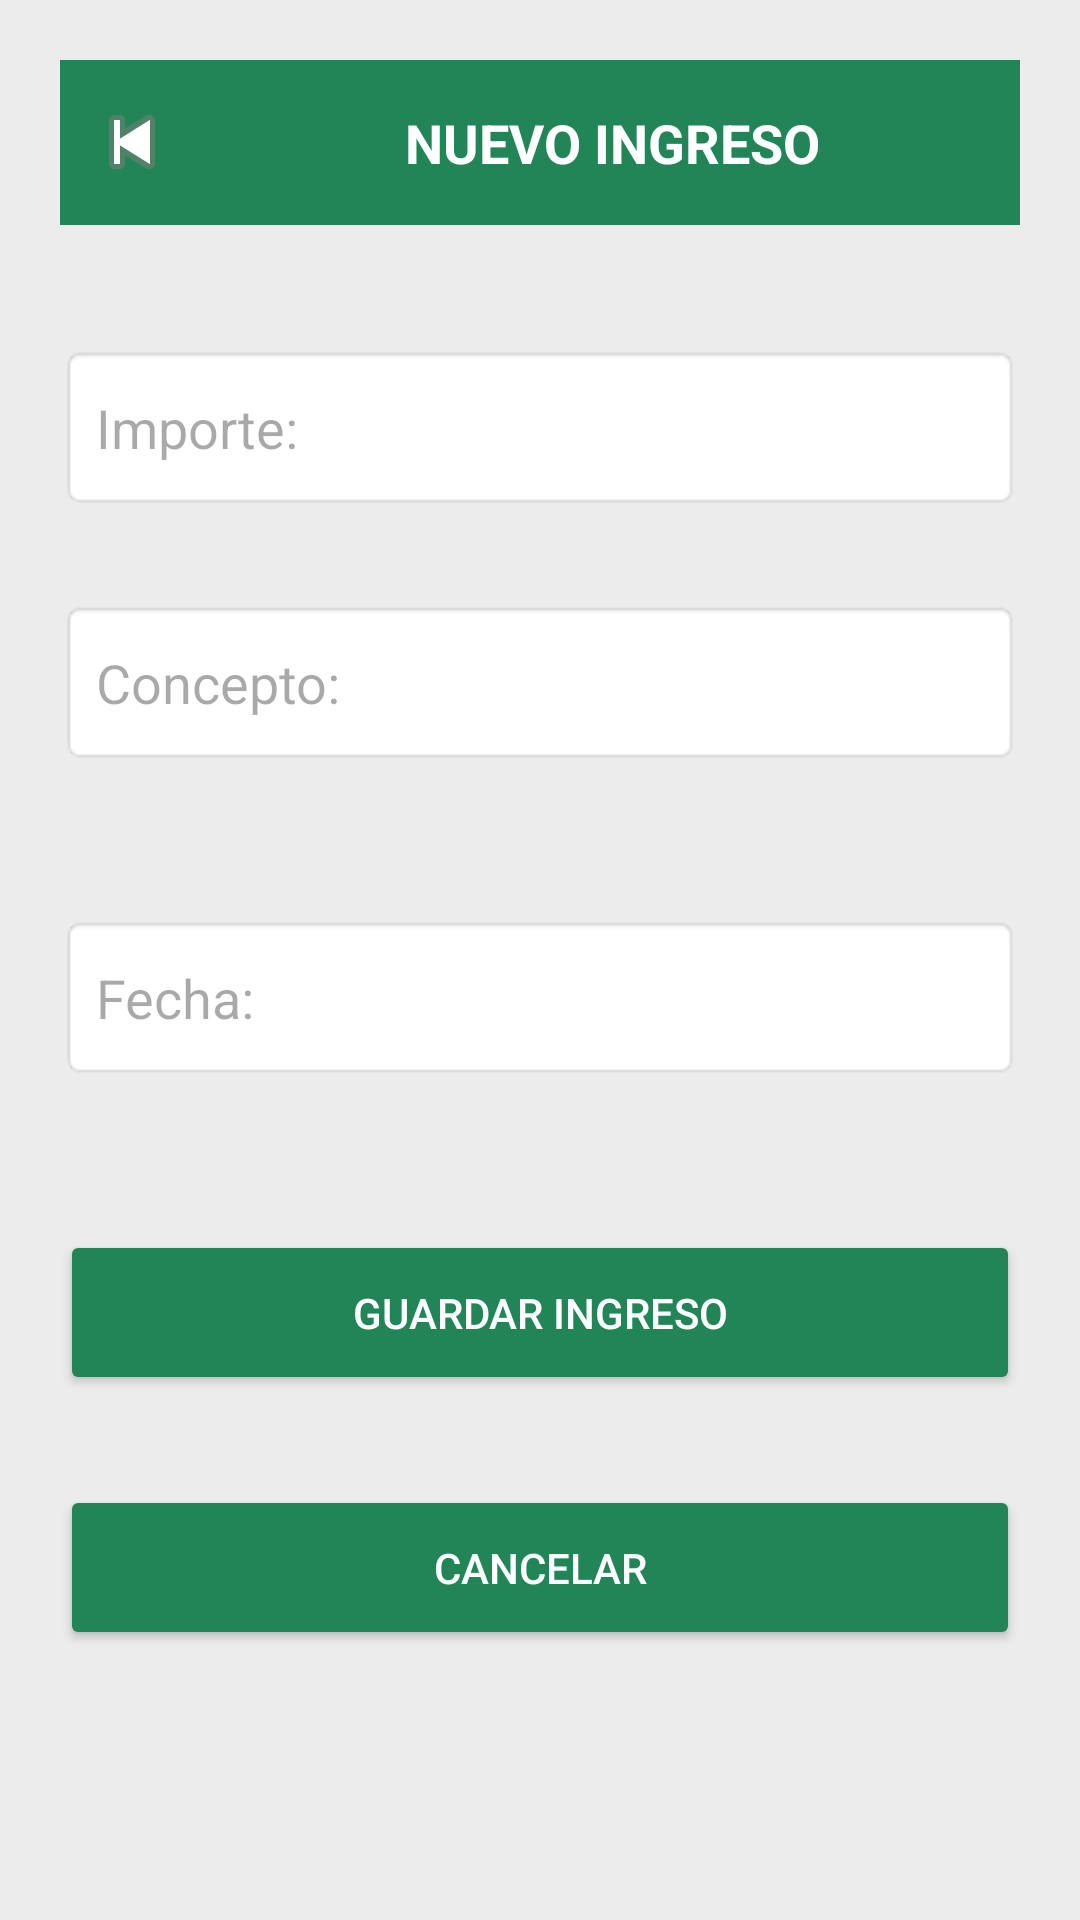

Screen size 1080x1920. Icon name, then its box in pixels as [x1=x1, y1=y1, x2=x2, y2=y2]:
previous: [x1=109, y1=115, x2=155, y2=169]
